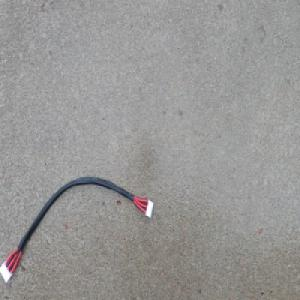Wire: (0, 176, 154, 283)
